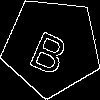B: (27, 21, 75, 77)
